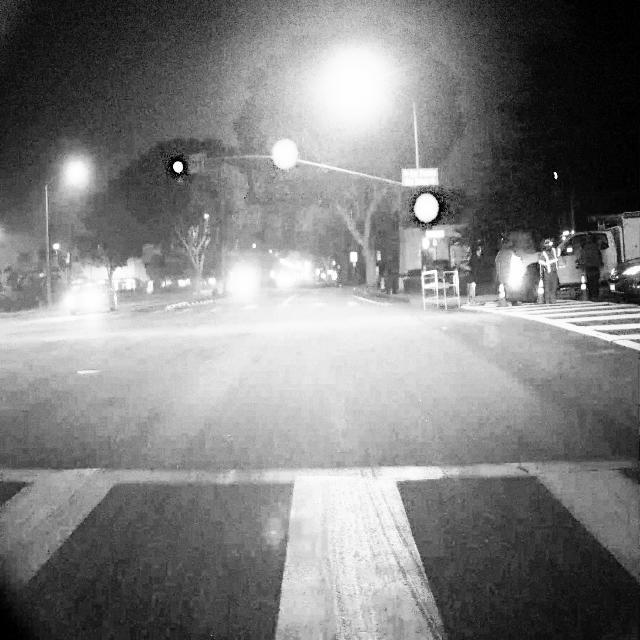Light: (303, 47, 398, 118)
Truck: (520, 208, 640, 302)
